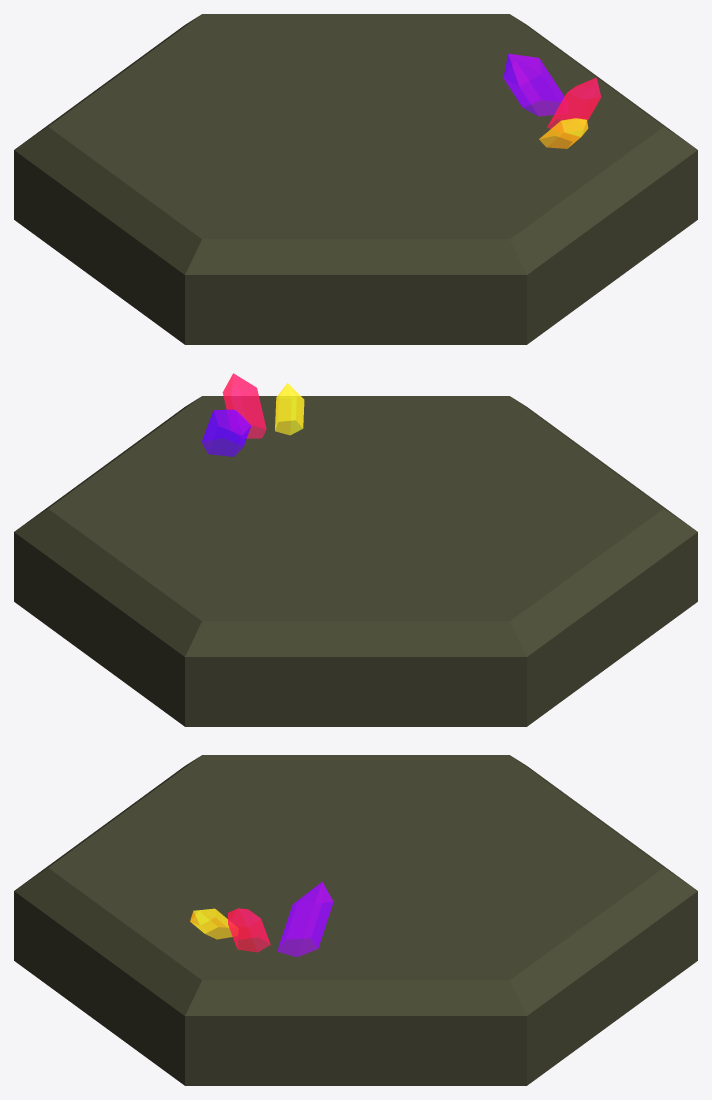
Rendered from GroundUnit(0).fbx.
3 views of the same model, one above another, from view 1: azimuth 30°, elevation 25°; view 2: azimuth 150°, elevation 25°; view 3: azimuth 270°, elevation 25° (orthographic).
Parts seen in each view (by area): view 1: GroundUnit1; view 2: GroundUnit1; view 3: GroundUnit1.
Boxes of the visible parts, x1,y1,x2,y2 form: GroundUnit1: [14, 14, 697, 344]; GroundUnit1: [14, 373, 697, 726]; GroundUnit1: [14, 755, 697, 1085].
Bounding box in the file's own units: 1.73 × 2 × 0.4689.
